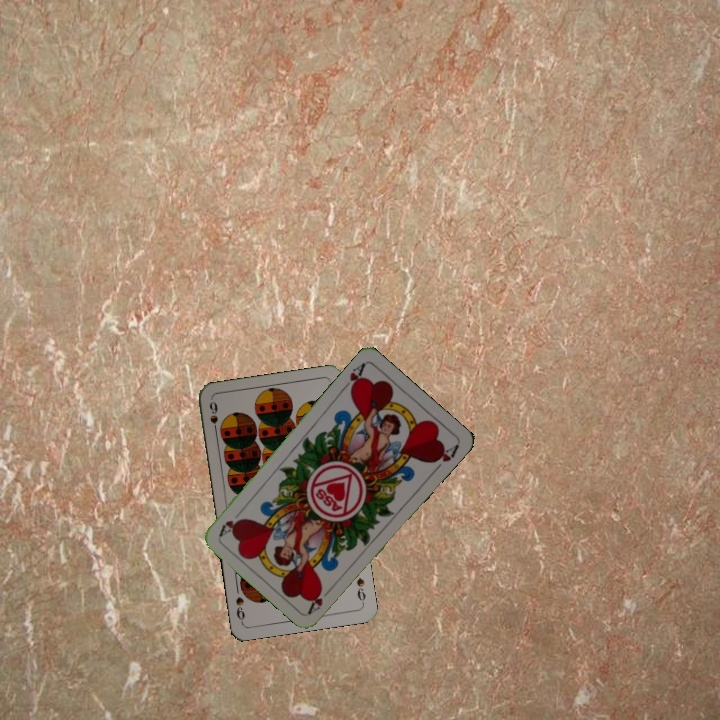HA: (304, 582, 336, 616), (338, 359, 368, 395)
S9: (205, 397, 221, 438), (352, 574, 368, 607)
